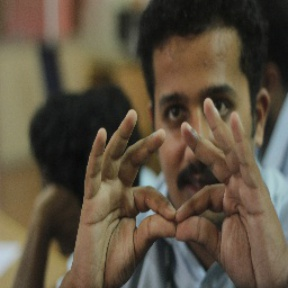B: (119, 169, 236, 270)
